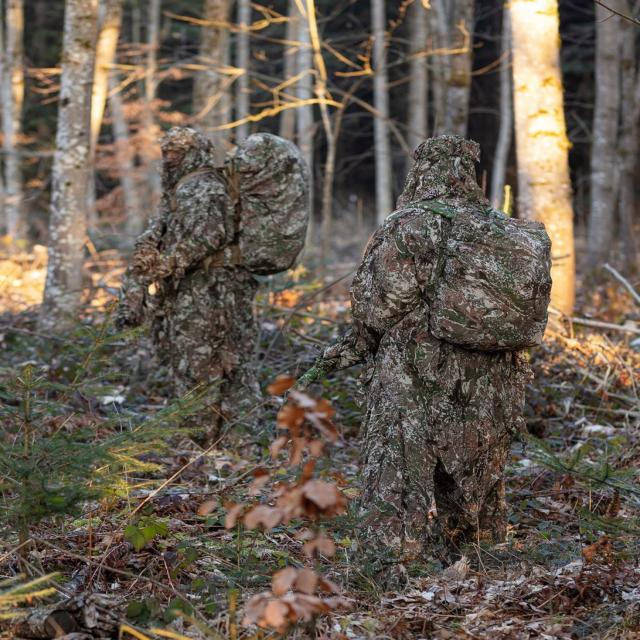camouflaged: (331, 136, 551, 566), (115, 126, 308, 438)
